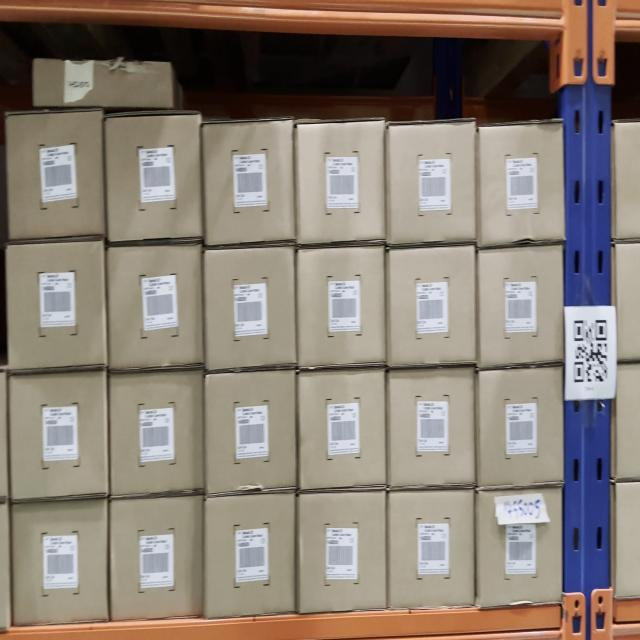box: (8, 114, 106, 242), (9, 375, 110, 499), (6, 247, 110, 366), (108, 112, 203, 242), (109, 370, 202, 498), (206, 243, 300, 369), (108, 241, 202, 366), (205, 125, 298, 248), (11, 504, 110, 619), (205, 370, 298, 492), (298, 243, 389, 367), (298, 372, 388, 493), (110, 501, 204, 616), (387, 117, 475, 239), (389, 366, 477, 487), (297, 123, 383, 246), (476, 126, 565, 243), (478, 366, 564, 487), (297, 492, 385, 610), (475, 488, 562, 604), (387, 247, 473, 363), (387, 491, 476, 602), (478, 246, 563, 361), (208, 505, 295, 612), (34, 53, 176, 114)
